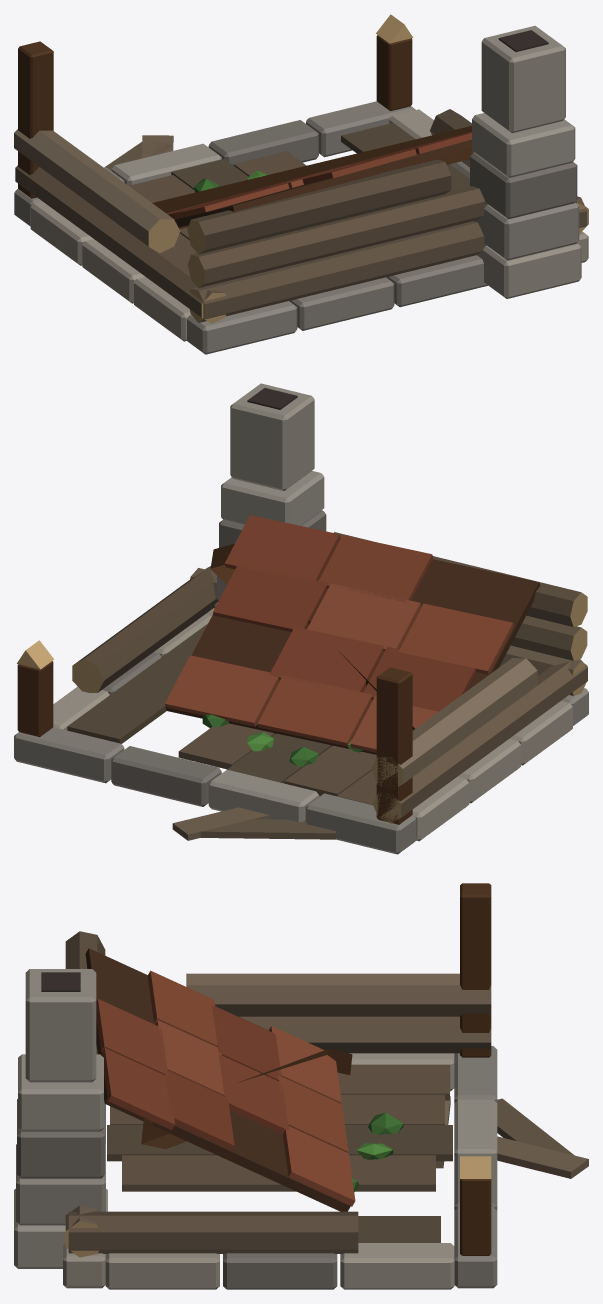
File: RuinedCabin.glb
The picture shows the model from 3 angles, top to bottom: view 1: azimuth 30°, elevation 25°; view 2: azimuth 150°, elevation 25°; view 3: azimuth 270°, elevation 25°; orthographic projection. The views are drawn at different scales.
Visible parts, largest first — view 1: Body; view 2: Body; view 3: Body.
Boxes of the visible parts, bbox=[...] form: Body: bbox=[14, 14, 588, 354]; Body: bbox=[14, 383, 588, 854]; Body: bbox=[14, 883, 588, 1289].
Size of what is drawn, in the model's own units: 13.1 by 7.65 by 14.69.
